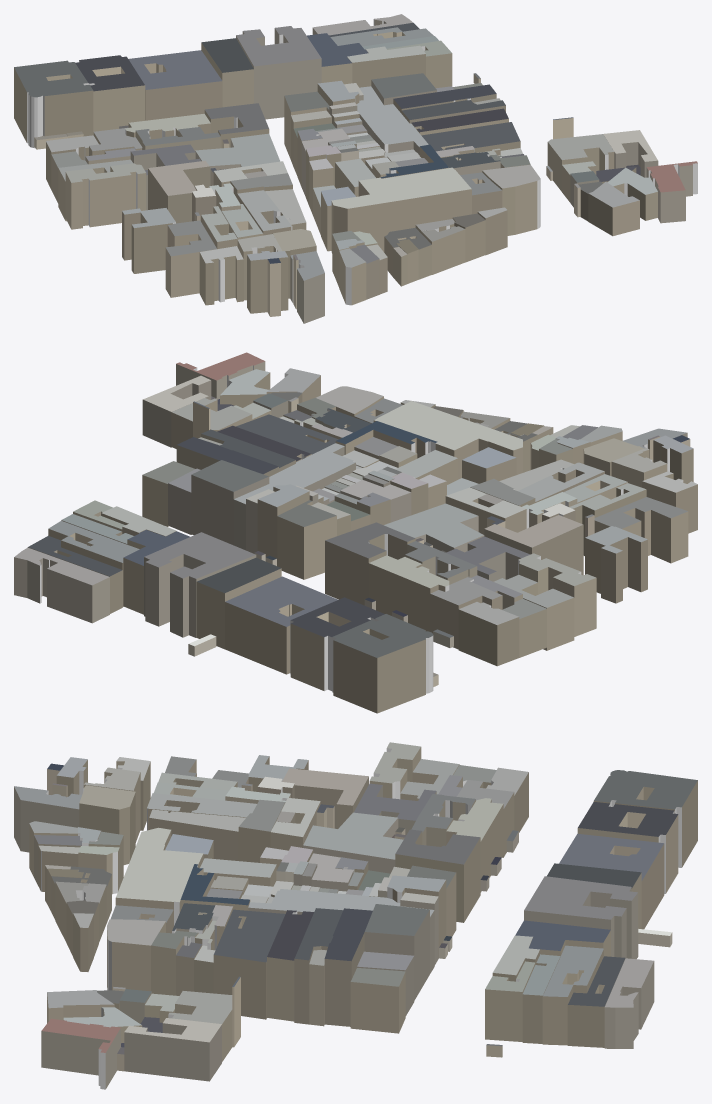
The picture shows the model from 3 angles, top to bottom: view 1: azimuth 30°, elevation 25°; view 2: azimuth 150°, elevation 25°; view 3: azimuth 270°, elevation 25°; orthographic projection. The views are drawn at different scales.
Parts seen in each view (by area): view 1: tuile; view 2: tuile; view 3: tuile.
Boxes of the visible parts, left/top/right/bottom form: tuile: left=14, top=14, right=697, bottom=323; tuile: left=14, top=352, right=697, bottom=713; tuile: left=14, top=742, right=697, bottom=1089.
Bounding box in the file's own units: 281 × 38.22 × 277.
